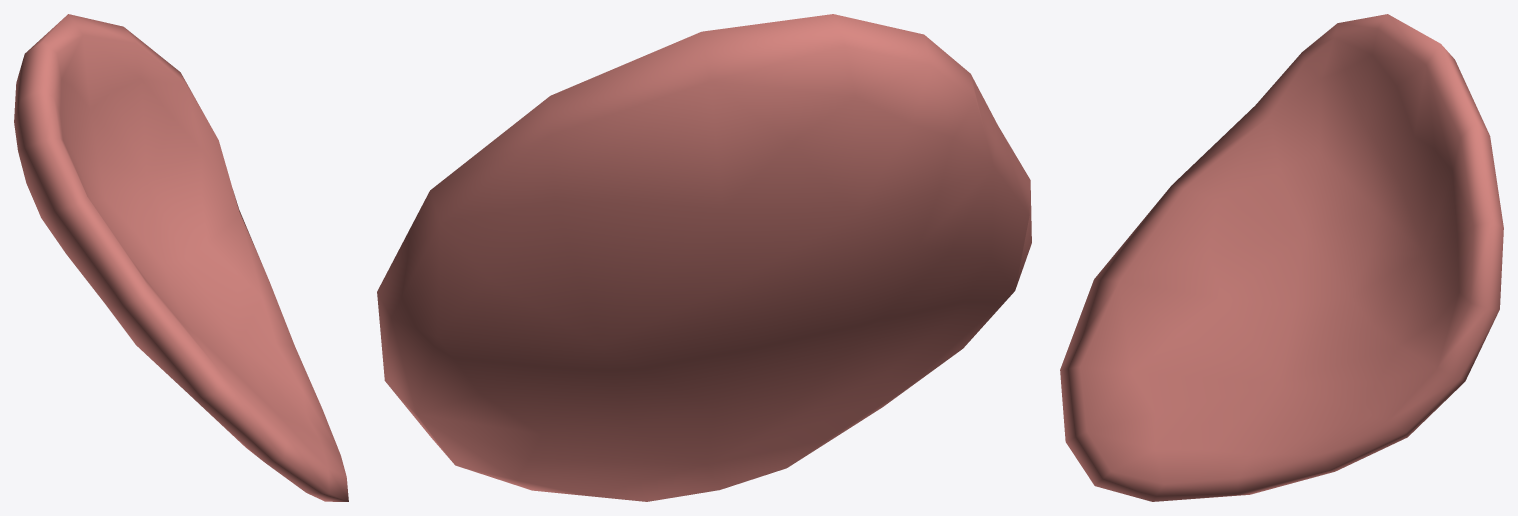
3 views of the same model, side by side, from view 1: azimuth 30°, elevation 25°; view 2: azimuth 150°, elevation 25°; view 3: azimuth 270°, elevation 25° (orthographic). The views are drawn at different scales.
Parts seen in each view (by area): view 1: ZA_2ea47c71e918d3f3; view 2: ZA_2ea47c71e918d3f3; view 3: ZA_2ea47c71e918d3f3.
Boxes of the visible parts, <box> form: ZA_2ea47c71e918d3f3: <box>14,14,348,501</box>; ZA_2ea47c71e918d3f3: <box>377,14,1031,501</box>; ZA_2ea47c71e918d3f3: <box>1060,14,1503,501</box>.
Bounding box in the file's own units: 0.00323 × 0.00437 × 0.00437.
